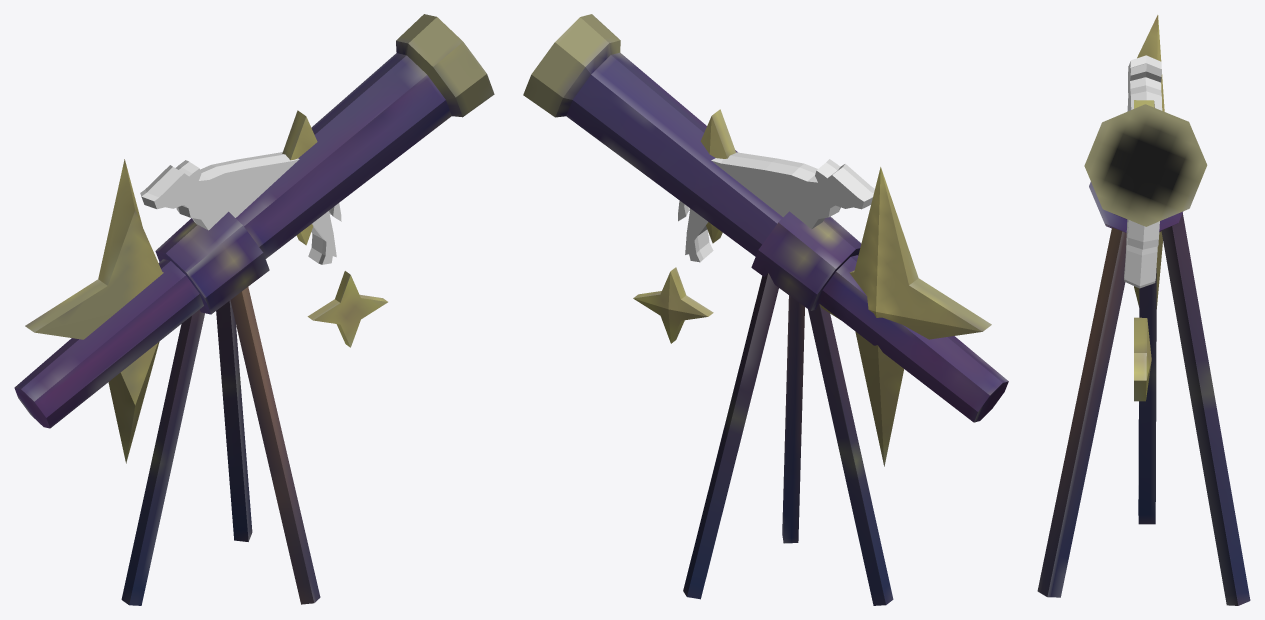
The model's file is ufo_item.glb.
3 renders of one model, left to right at view 1: azimuth 30°, elevation 25°; view 2: azimuth 150°, elevation 25°; view 3: azimuth 270°, elevation 25°, orthographic. The views are drawn at different scales.
Visible parts, largest first — view 1: teleskop, stars_decoration, cow_figure; view 2: teleskop, stars_decoration, cow_figure; view 3: teleskop, cow_figure, stars_decoration.
Boxes of the visible parts, <box> form: teleskop: <box>14,14,494,605</box>; stars_decoration: <box>25,110,387,463</box>; cow_figure: <box>140,151,341,264</box>; teleskop: <box>523,14,1008,605</box>; stars_decoration: <box>633,109,991,466</box>; cow_figure: <box>678,152,874,262</box>; teleskop: <box>1037,104,1250,605</box>; cow_figure: <box>1124,55,1162,288</box>; stars_decoration: <box>1134,15,1164,401</box>.
Bounding box in the file's own units: 2.36 × 2.49 × 0.8197.
Materials: 1 (1 with a texture image).
